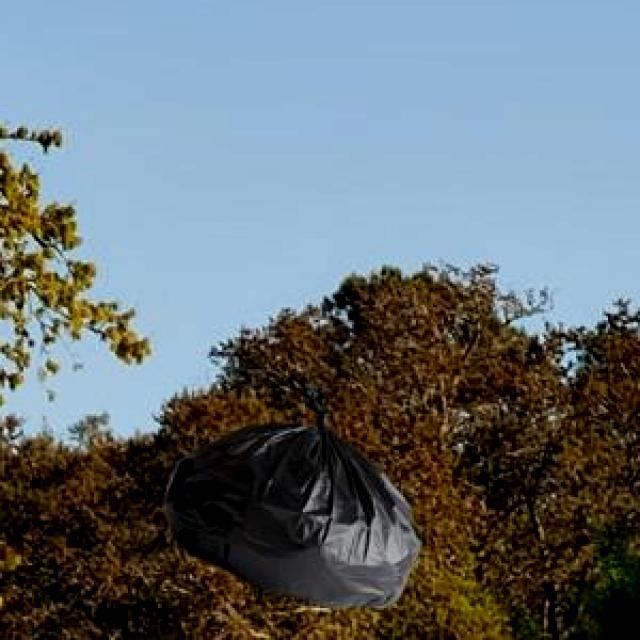Trashbag: (156, 385, 427, 614)
